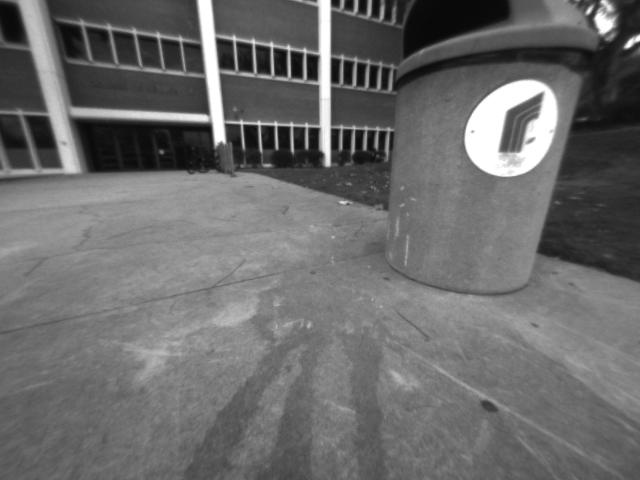trashcan: (357, 1, 598, 311)
